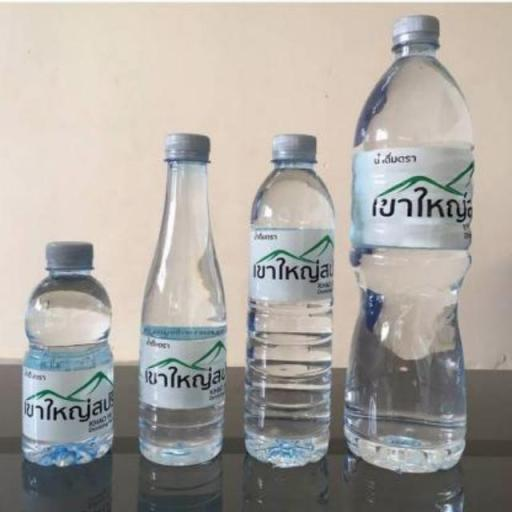Coca: (341, 6, 477, 484), (128, 116, 238, 511), (240, 130, 339, 474), (15, 233, 124, 511)
